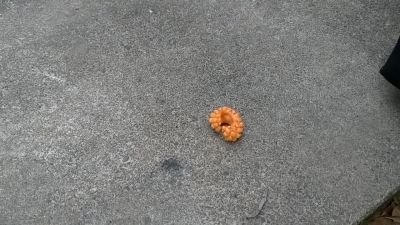eggs: (208, 107, 245, 141)
